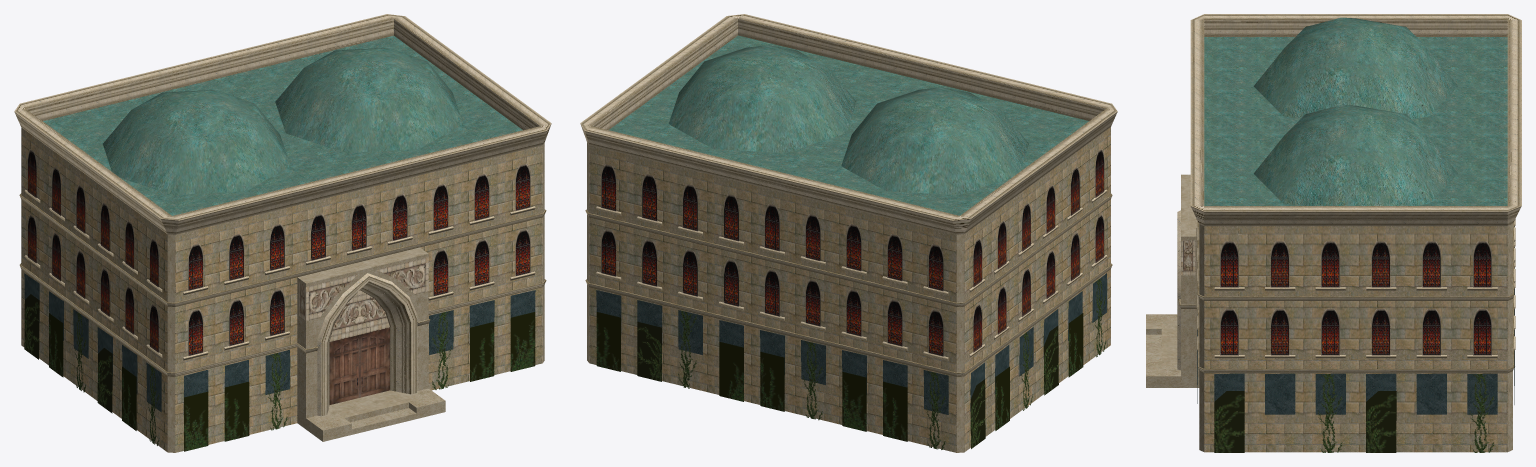
The model's file is ply_nboo_house_m_s02_fp1_r0_mesh_l1.fbx.
The picture shows the model from 3 angles, left to right: view 1: azimuth 30°, elevation 25°; view 2: azimuth 150°, elevation 25°; view 3: azimuth 270°, elevation 25°; orthographic projection. The views are drawn at different scales.
Visible parts, largest first — view 1: mesh_node; view 2: mesh_node; view 3: mesh_node.
Boxes of the visible parts, bbox=[...] form: mesh_node: bbox=[14, 14, 551, 452]; mesh_node: bbox=[580, 14, 1117, 452]; mesh_node: bbox=[1146, 14, 1521, 452].
Bounding box in the file's own units: 18.12 × 12.22 × 14.55.
